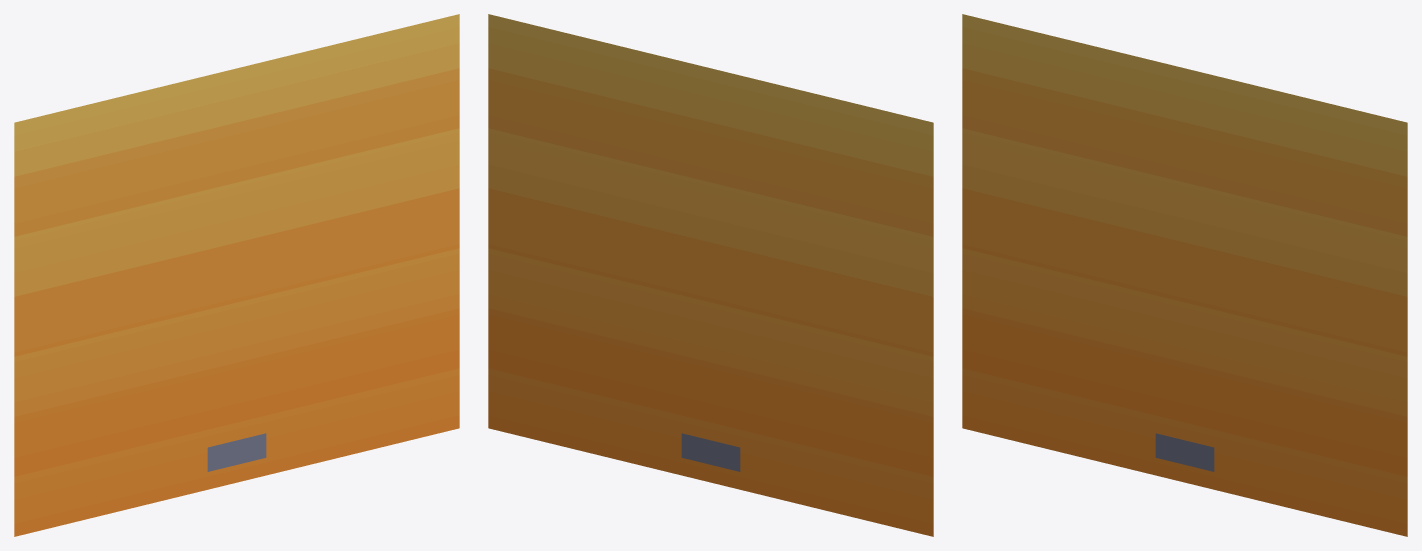
File: kcv_door_wide_closed.glb
3 views of the same model, side by side, from view 1: azimuth 30°, elevation 25°; view 2: azimuth 150°, elevation 25°; view 3: azimuth 330°, elevation 25° (orthographic).
Parts seen in each view (by area): view 1: door-wide-closed; view 2: door-wide-closed; view 3: door-wide-closed.
Part boxes in pixels (x1,y1,x2,y2): door-wide-closed: (14, 14, 459, 536); door-wide-closed: (488, 14, 933, 536); door-wide-closed: (962, 14, 1407, 536).
Size of the model in its own units: 3.6 by 3.2 by 0.
1 material, 1 textured.
